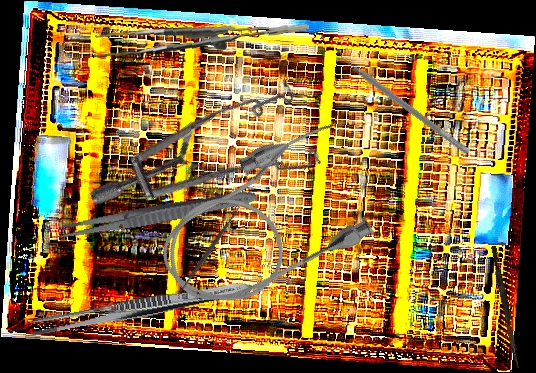Cannula: (137, 111, 388, 331)
Dressing Forceps: (28, 276, 255, 340), (53, 185, 258, 245)
Pusher: (488, 245, 524, 369)
Spatula Surgical: (332, 46, 475, 156), (171, 203, 246, 301)
Speculum: (85, 33, 348, 298)
Tissue Forceps: (94, 13, 309, 68)
